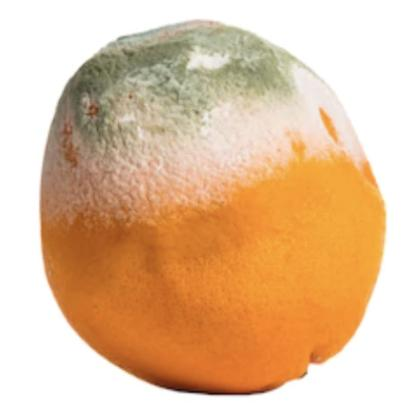rotten: (38, 17, 388, 394)
